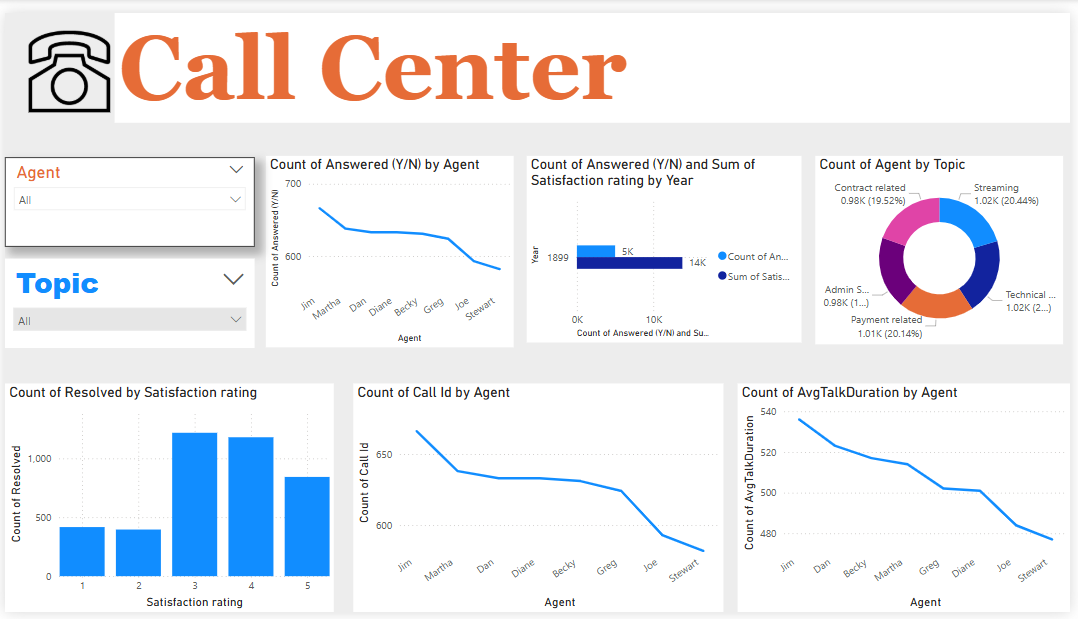

The page's visual inventory and layout, read from the dashboard file:
{"tool":"powerbi","page":{"name":"Page 1","canvas":[1280,720],"ordinal":0},"visuals":[{"type":"lineChart","fields":{"Category":["Sheet1 (2).Agent"],"Y":["Sheet1 (2).Answered (Y/N)"]},"box":[314,172,298,230],"z":0},{"type":"columnChart","fields":{"Category":["Sheet1 (2).Satisfaction rating"],"Y":["Sheet1 (2).Resolved"]},"box":[0,445,395,275],"z":1000},{"type":"clusteredBarChart","fields":{"Category":["Sheet1 (2).Time.Variation.Date Hierarchy.Year","Sheet1 (2).Time.Variation.Date Hierarchy.Quarter","Sheet1 (2).Time.Variation.Date Hierarchy.Month","Sheet1 (2).Time.Variation.Date Hierarchy.Day"],"Y":["Sheet1 (2).Answered (Y/N)","Sheet1 (2).Satisfaction rating"]},"box":[626,172,330,224],"z":2000},{"type":"lineChart","fields":{"Category":["Sheet1 (2).Agent"],"Y":["Sheet1 (2).Call Id"]},"box":[417.5,445,445,275],"z":3000},{"type":"donutChart","fields":{"Category":["Sheet1 (2).Topic"],"Y":["Sheet1 (2).Agent"]},"box":[974,172,298,226],"z":4000},{"type":"lineChart","fields":{"Category":["Sheet1 (2).Agent"],"Y":["Sheet1 (2).AvgTalkDuration"]},"box":[880,445,400,275],"z":5000},{"type":"slicer","fields":{"Values":["Sheet1 (2).Agent"]},"box":[0,172.5,300,107.5],"z":6000},{"type":"textbox","box":[132,0,1148,132],"z":7000},{"type":"image","box":[24,8,108,124],"z":8000},{"type":"slicer","fields":{"Values":["Sheet1 (2).Topic"]},"box":[0,295,300,107.5],"z":9000}]}

Visuals, with their boxes in screenshot pixels (x1, y1, x2, y2), scaled from the page's 1280x720 canvas onto the 1078x619 screenshot:
lineChart - Sheet1 (2).Agent x Sheet1 (2).Answered (Y/N): select_region(264, 148, 515, 346)
columnChart - Sheet1 (2).Satisfaction rating x Sheet1 (2).Resolved: select_region(0, 383, 333, 618)
clusteredBarChart - Sheet1 (2).Time.Variation.Date Hierarchy.Year x Sheet1 (2).Time.Variation.Date Hierarchy.Quarter: select_region(527, 148, 805, 340)
lineChart - Sheet1 (2).Agent x Sheet1 (2).Call Id: select_region(352, 383, 726, 618)
donutChart - Sheet1 (2).Topic x Sheet1 (2).Agent: select_region(820, 148, 1071, 342)
lineChart - Sheet1 (2).Agent x Sheet1 (2).AvgTalkDuration: select_region(741, 383, 1077, 618)
slicer - Sheet1 (2).Agent: select_region(0, 148, 253, 241)
textbox: select_region(111, 0, 1077, 113)
image: select_region(20, 7, 111, 113)
slicer - Sheet1 (2).Topic: select_region(0, 254, 253, 346)
